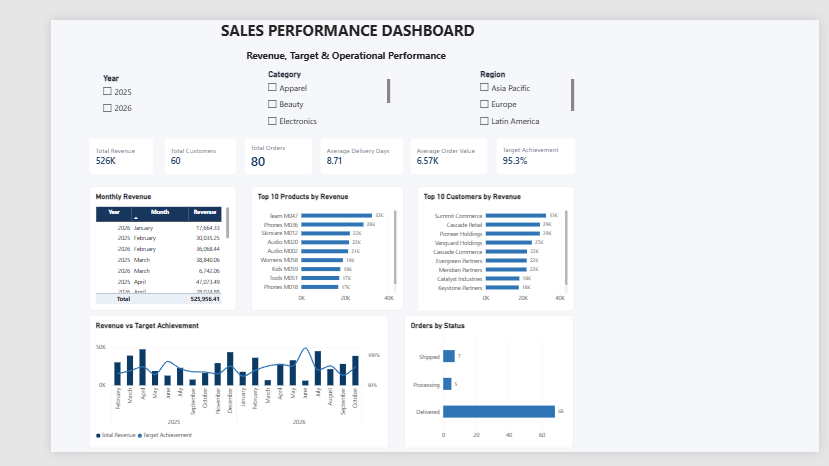

Layout of this report page (visuals, bound fields, positions):
{"tool":"powerbi","page":{"name":"Sales Overview","canvas":[1920,1080],"ordinal":0},"visuals":[{"type":"tableEx","title":"Monthly Revenue","fields":{"Values":["dim_date.date.Variation.Date Hierarchy.Year","dim_date.date.Variation.Date Hierarchy.Month","Sum(fact_sales.line_total)"]},"box":[96,414,368,312],"z":3},{"type":"clusteredBarChart","title":"Top  10 Products by Revenue","fields":{"Category":["dim_product.product_name"],"Y":["Sum(fact_sales.line_total)"]},"box":[500,415.7,381.4,311.4],"z":4},{"type":"clusteredBarChart","title":"Top 10 Customers by Revenue","fields":{"Category":["dim_customer.customer_name"],"Y":["Sum(fact_sales.line_total)"]},"box":[914.3,414.3,394.3,312.9],"z":5},{"type":"lineClusteredColumnComboChart","title":"Revenue vs Target Achievement","fields":{"Category":["dim_date.date.Variation.Date Hierarchy.Year","dim_date.date.Variation.Date Hierarchy.Month"],"Y":["_measure.Total Revenue"],"Y2":["_measure.Target Achievement"]},"box":[94.3,738.6,748.6,332.9],"z":7},{"type":"barChart","title":"Orders by Status","fields":{"Category":["dim_order_flags.status"],"Y":["_measure.total_active_customer"]},"box":[881.4,738.6,424.3,332.9],"z":8},{"type":"cardVisual","fields":{"Data":["_measure.total_sales"]},"box":[95.7,295.7,162.9,91.4],"z":9},{"type":"cardVisual","fields":{"Data":["_measure.total_order"]},"box":[481.4,295.7,171.4,91.4],"z":10},{"type":"cardVisual","fields":{"Data":["_measure.total_sales"]},"box":[306.2,1339.2,115.5,91.8],"z":11},{"type":"cardVisual","fields":{"Data":["_measure.target_achievement _per"]},"box":[1111.4,295.7,200,91.4],"z":12},{"type":"cardVisual","fields":{"Data":["Count(dim_customer.customer_id)"]},"box":[281.4,295.7,181.4,91.4],"z":13},{"type":"cardVisual","fields":{"Data":["_measure.avg_or_val"]},"box":[898.6,295.7,195.7,91.4],"z":14},{"type":"cardVisual","fields":{"Data":["_measure.avg_or_val"]},"box":[785.6,1384.5,113.4,91.8],"z":15},{"type":"cardVisual","fields":{"Data":["_measure.average_delivery_days"]},"box":[671.4,295.7,210,91.4],"z":16},{"type":"textbox","box":[336,0,814,52],"z":18},{"type":"textbox","box":[368,52,740,80],"z":19},{"type":"slicer","fields":{"Values":["dim_geo.region_name"]},"box":[1065,123.3,243.3,155],"z":22},{"type":"slicer","fields":{"Values":["dim_product.category"]},"box":[535,123.3,313.3,148.3],"z":23},{"type":"slicer","fields":{"Values":["dim_date.year"]},"box":[121.7,131.7,275,148.3],"z":24}]}

Visuals, with their boxes in screenshot pixels (x1, y1, x2, y2), scaled from the page's 1920x1080 canvas onto the 829x466 screenshot:
"Monthly Revenue" tableEx: detection(41, 179, 200, 313)
"Top  10 Products by Revenue" clusteredBarChart: detection(216, 179, 381, 314)
"Top 10 Customers by Revenue" clusteredBarChart: detection(395, 179, 565, 314)
"Revenue vs Target Achievement" lineClusteredColumnComboChart: detection(41, 319, 364, 462)
"Orders by Status" barChart: detection(381, 319, 564, 462)
cardVisual - _measure.total_sales: detection(41, 128, 112, 167)
cardVisual - _measure.total_order: detection(208, 128, 282, 167)
cardVisual - _measure.target_achievement _per: detection(480, 128, 566, 167)
cardVisual - Count(dim_customer.customer_id): detection(122, 128, 200, 167)
cardVisual - _measure.avg_or_val: detection(388, 128, 472, 167)
cardVisual - _measure.average_delivery_days: detection(290, 128, 381, 167)
textbox: detection(145, 0, 497, 22)
textbox: detection(159, 22, 478, 57)
slicer - dim_geo.region_name: detection(460, 53, 565, 120)
slicer - dim_product.category: detection(231, 53, 366, 117)
slicer - dim_date.year: detection(53, 57, 171, 121)
